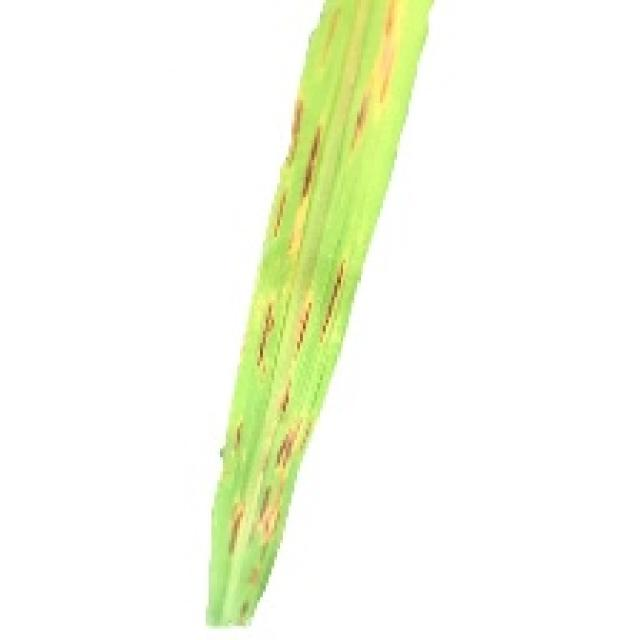Unhealthy: (252, 483, 287, 565), (316, 261, 343, 346), (273, 414, 303, 476), (301, 124, 323, 202), (381, 2, 396, 100), (286, 94, 303, 166), (256, 303, 275, 366), (352, 87, 371, 146), (226, 504, 244, 557), (294, 306, 311, 356), (322, 9, 338, 56), (273, 187, 287, 237), (232, 600, 250, 622), (279, 383, 291, 415), (258, 484, 270, 516), (233, 424, 242, 446)
